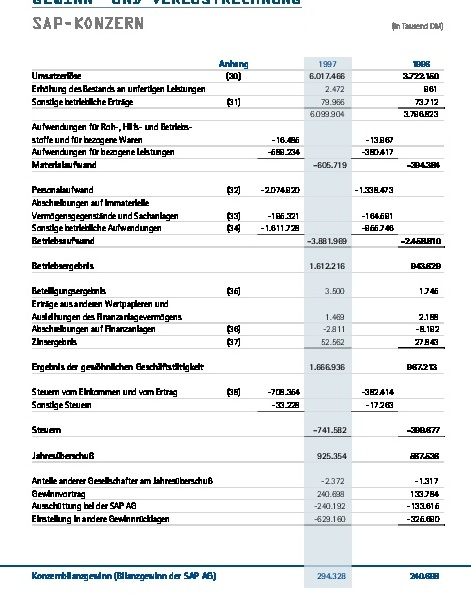table: (0, 0, 471, 602)
